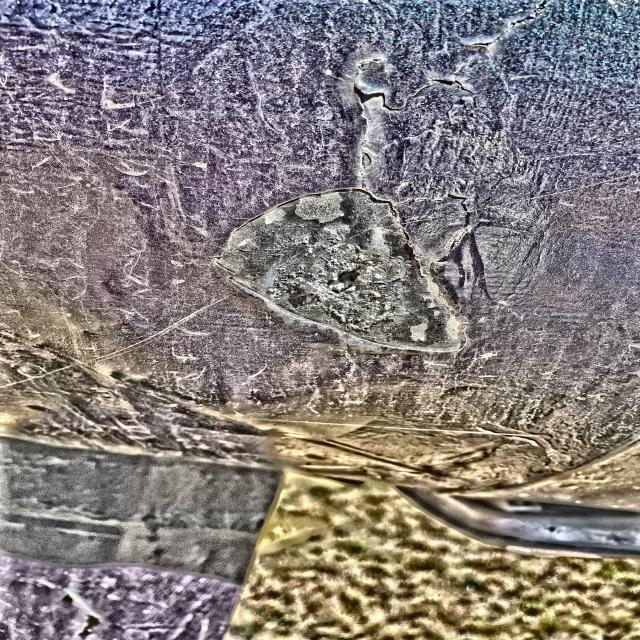crack: (350, 64, 481, 115), (457, 14, 532, 53)
dent: (191, 182, 471, 358)
